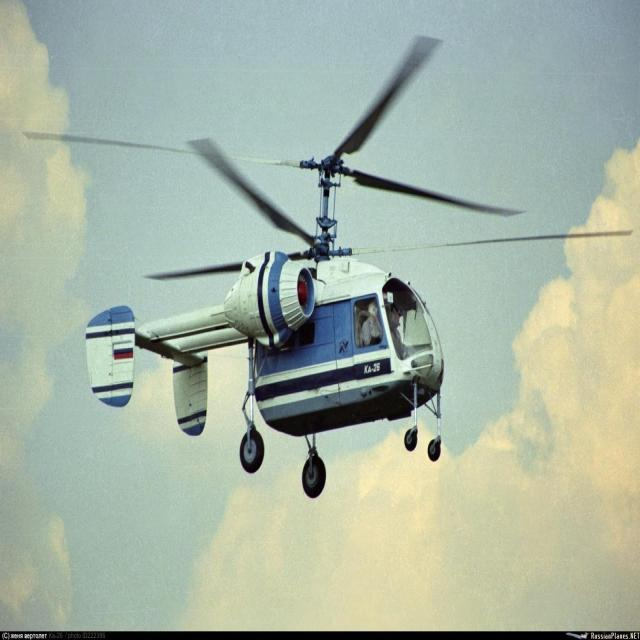MIL_HELO: (23, 23, 627, 502)
